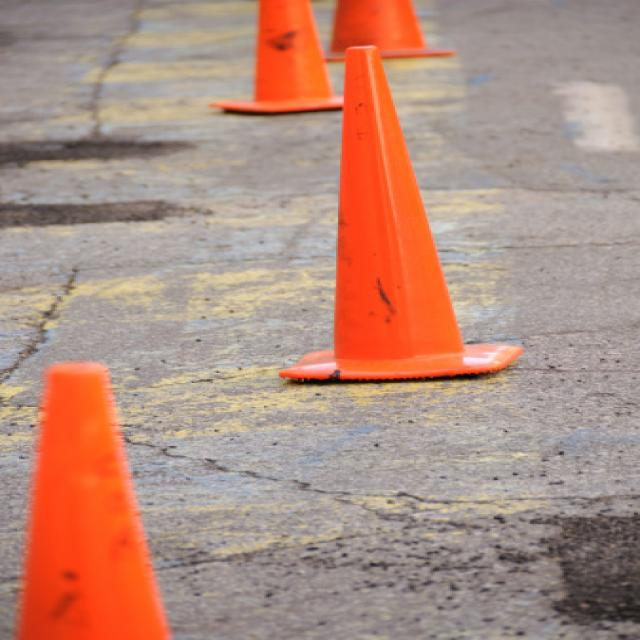cone: (280, 44, 526, 380), (0, 361, 176, 639), (211, 0, 348, 112)
